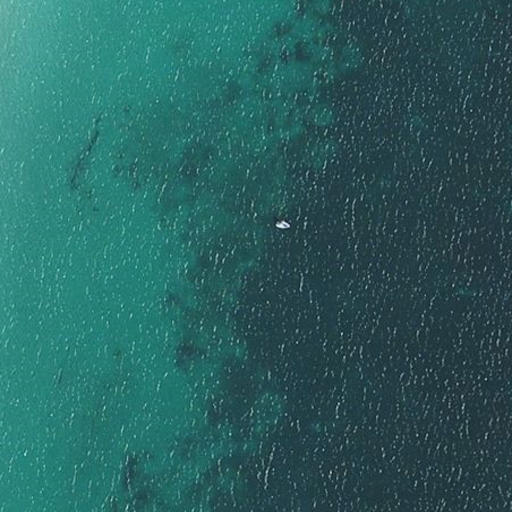ship: (272, 217, 293, 232)
